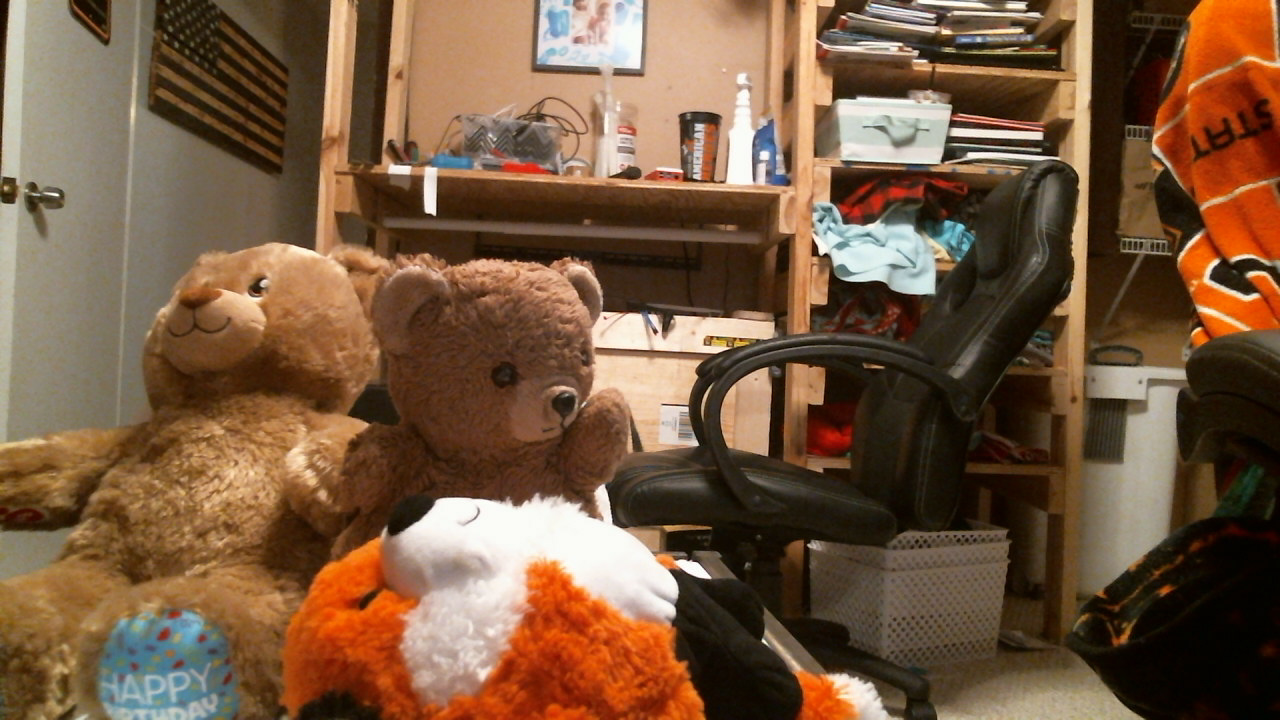Little_Mister_Bear: (371, 260, 620, 468)
